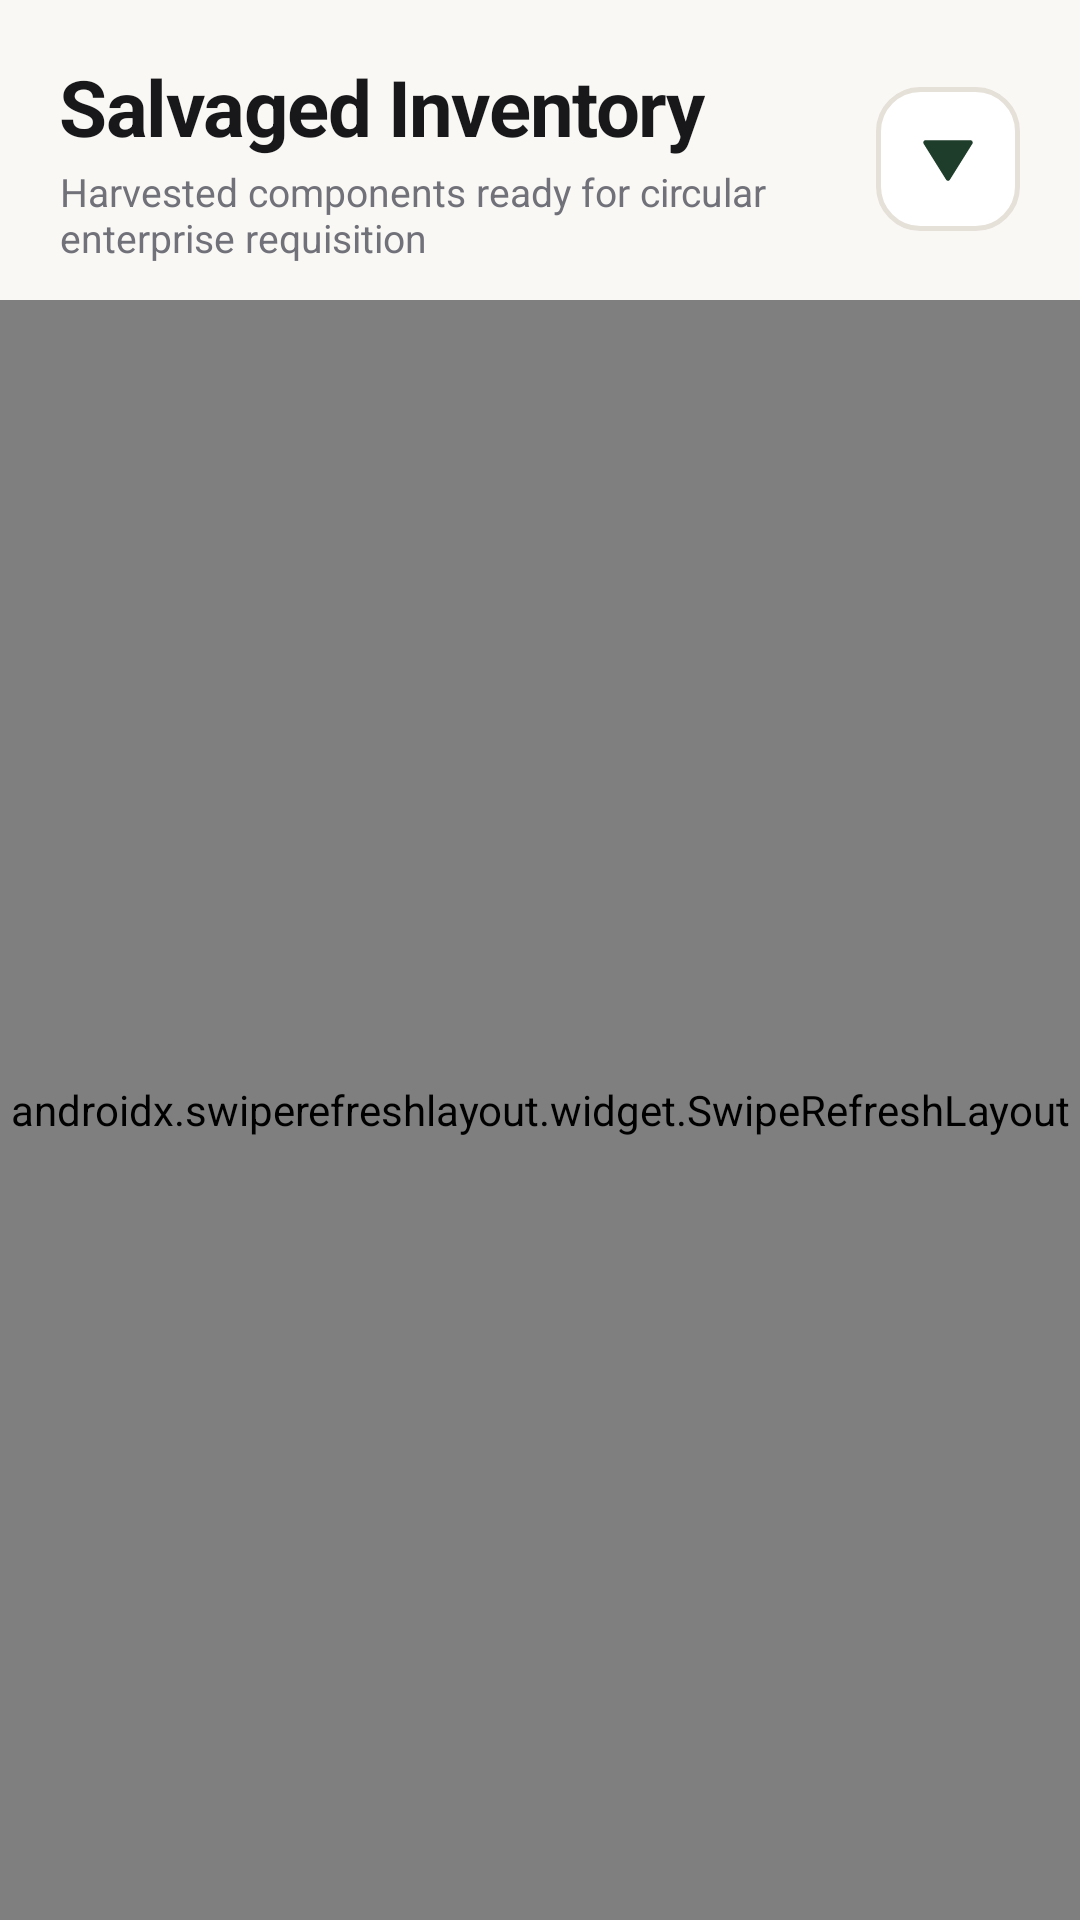

Icons on this 1080w x 1920h Android screen, each with its box as BBox(x1, y1, x2, y2):
Quick Action Menu: BBox(876, 87, 1020, 231)
